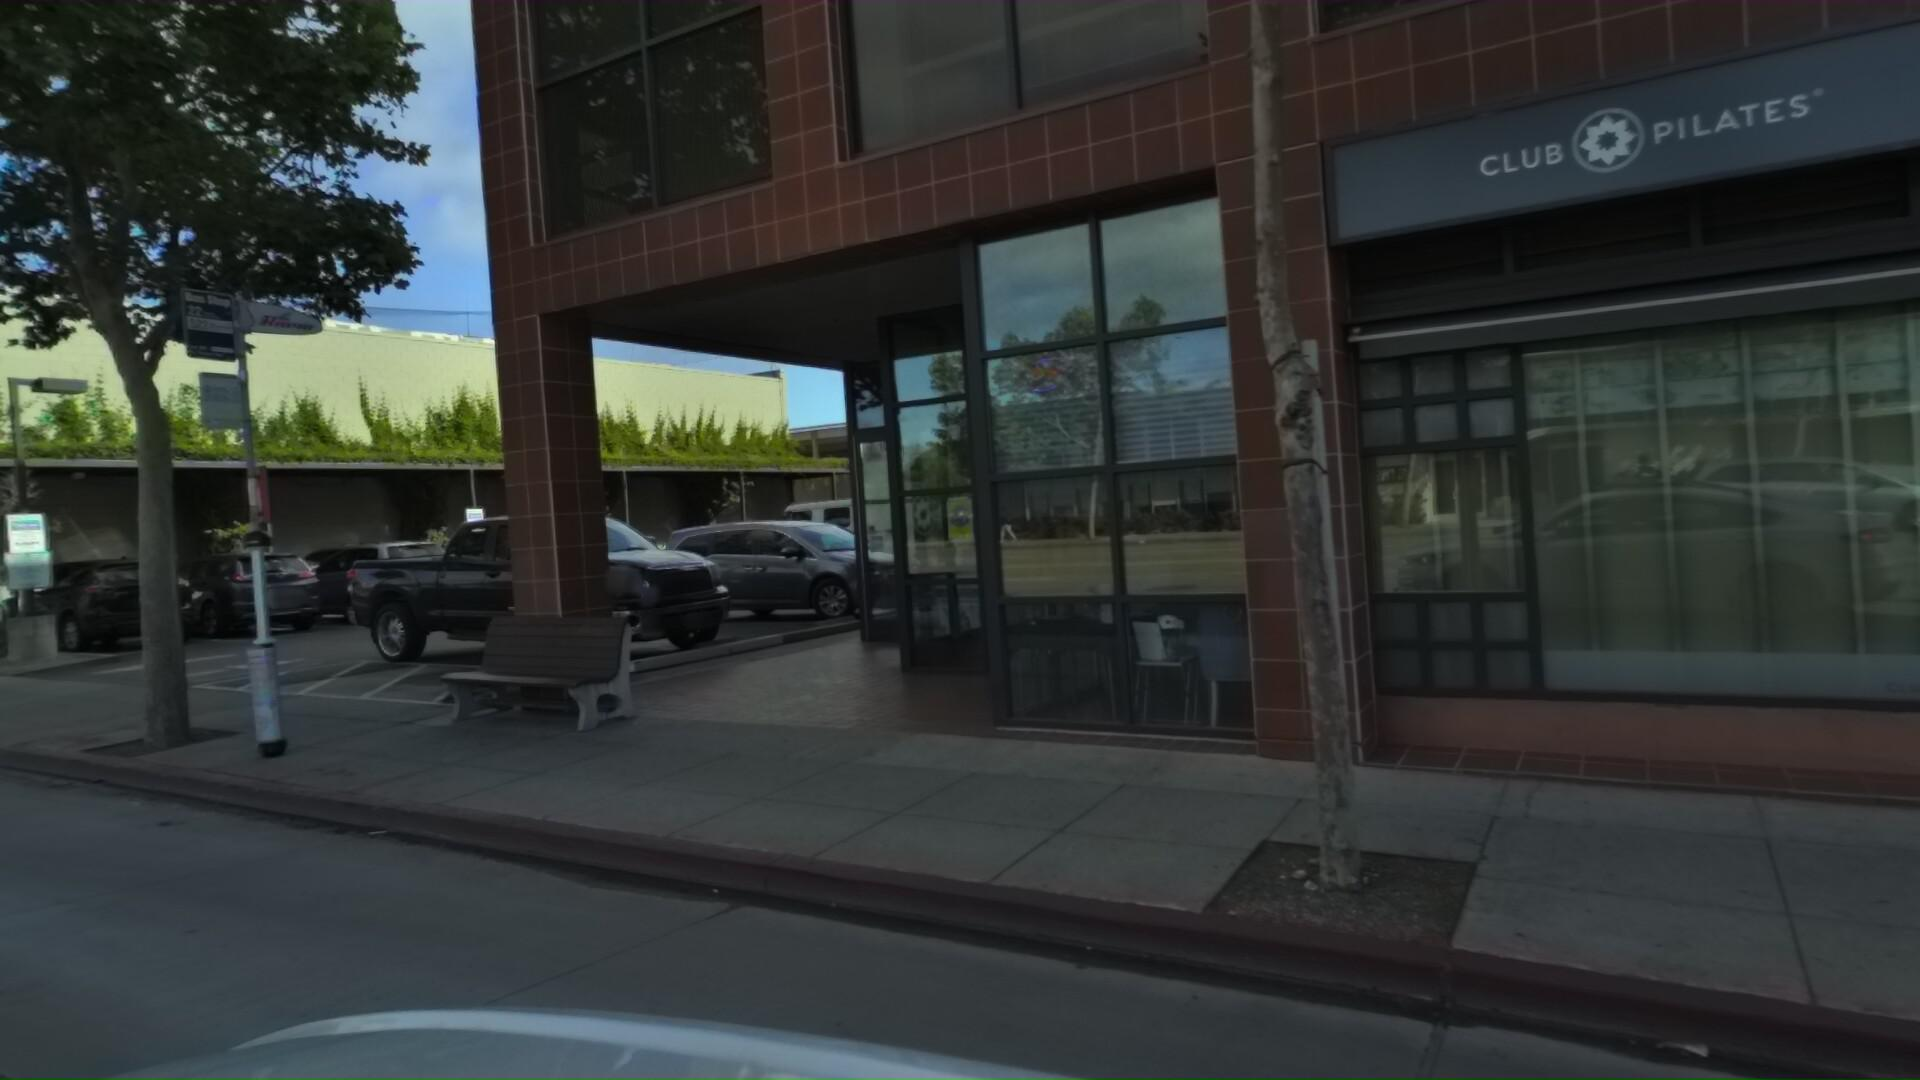car: (343, 488, 766, 669), (0, 543, 219, 649), (121, 531, 343, 636)
